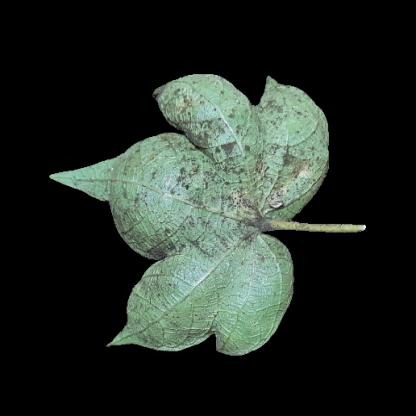curl_stage2: (210, 280, 268, 343)
sooty: (192, 114, 291, 240)
